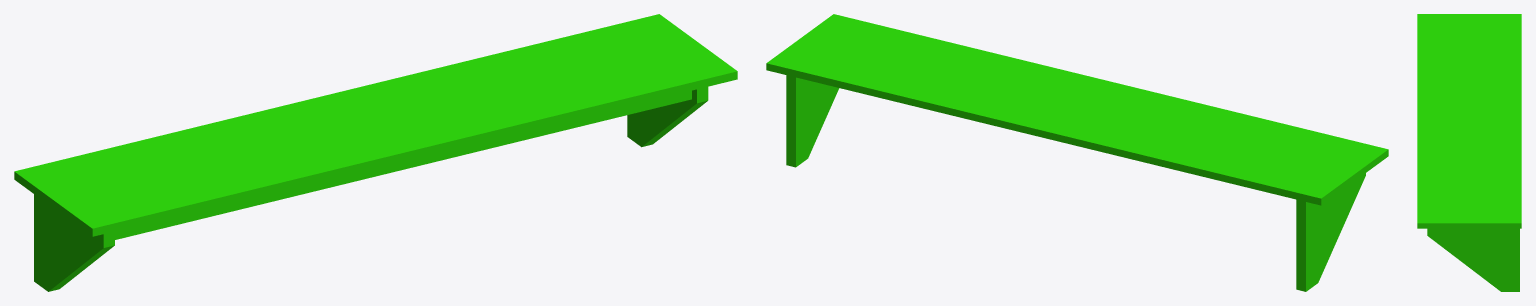
Rendered from Kitchen_Shelf_03_Lod0.fbx.
The picture shows the model from 3 angles, left to right: view 1: azimuth 30°, elevation 25°; view 2: azimuth 150°, elevation 25°; view 3: azimuth 270°, elevation 25°; orthographic projection. The views are drawn at different scales.
Parts seen in each view (by area): view 1: Kitchen_Shelf_03_Lod0; view 2: Kitchen_Shelf_03_Lod0; view 3: Kitchen_Shelf_03_Lod0.
Boxes of the visible parts, x1,y1,x2,y2 form: Kitchen_Shelf_03_Lod0: (14,14,737,291); Kitchen_Shelf_03_Lod0: (766,14,1388,291); Kitchen_Shelf_03_Lod0: (1417,14,1521,291).
Bounding box in the file's own units: 135 × 22.73 × 28.3.
